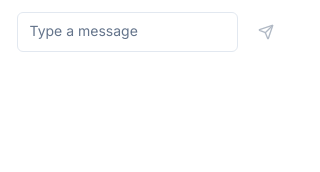
Scenario: clears a draft only after a successful send
Step 1. Type "send me" into the text box → coordinates (127, 32), box [16,12,238,52]
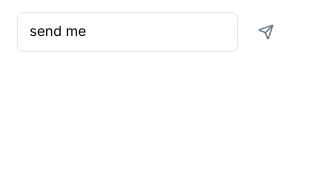
Step 2. Press Enter in the text box, box [16,12,238,52]
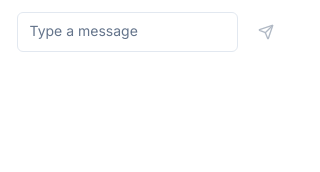
Now the text box is empty, box [16,12,238,52]
